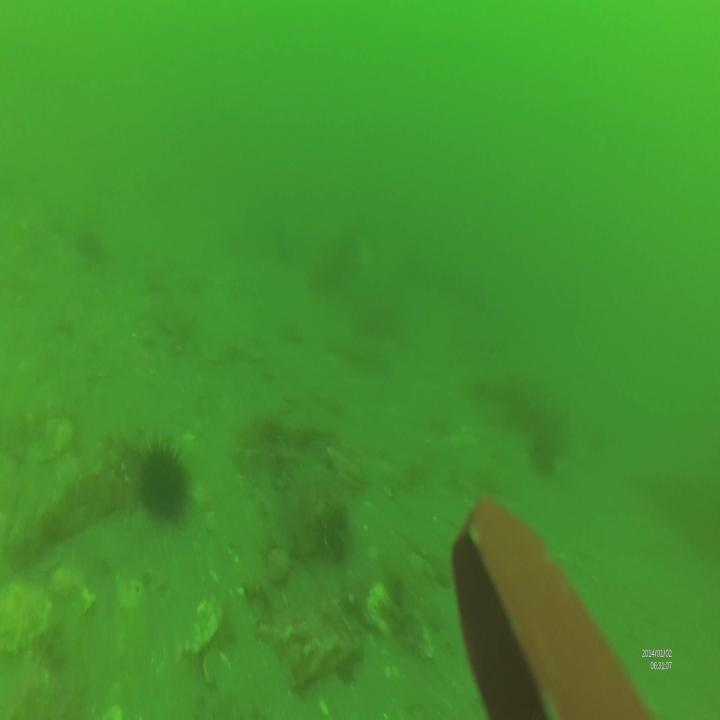echinus: (131, 433, 187, 519)
